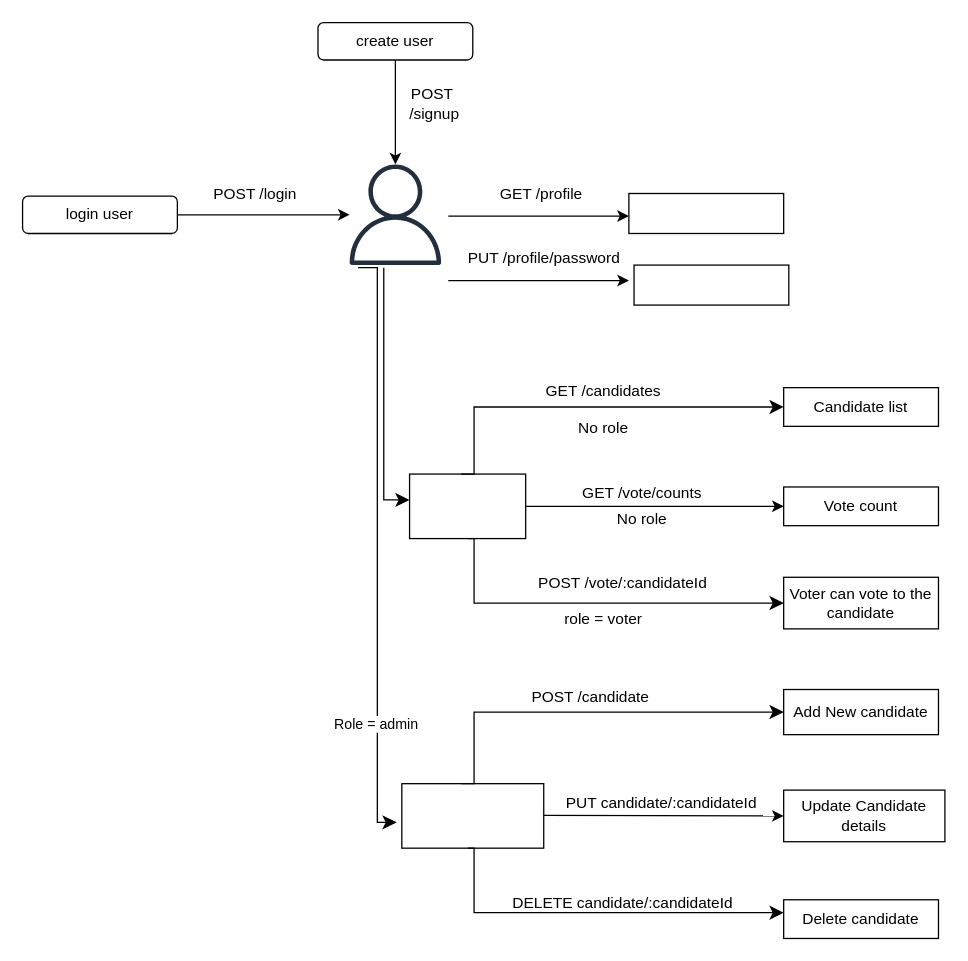
Image size: 968x961. Some labels were removed from this diagram. Each missing label, with the box of its shape:
Access profile: (628, 192, 784, 233)
Admin managment: (401, 782, 544, 848)
Profile password change: (633, 264, 789, 305)
VOTE: (408, 473, 526, 539)
